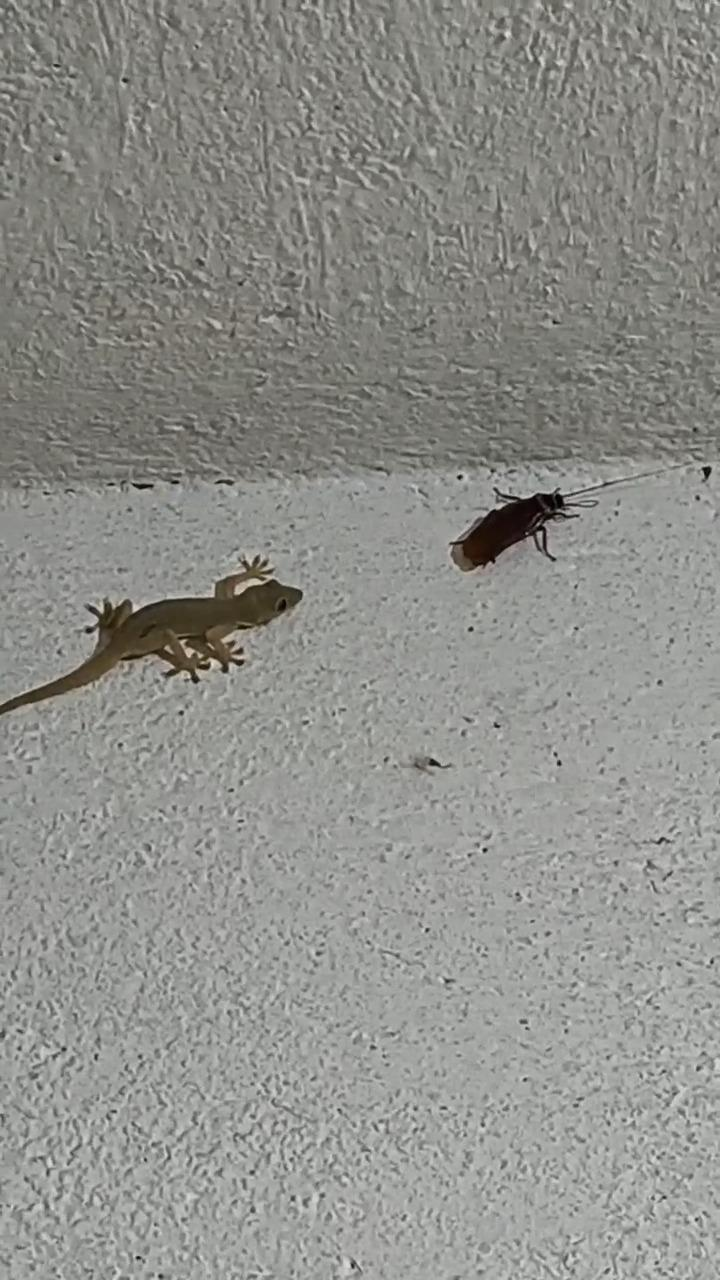cockroach: (432, 476, 643, 576)
lizard: (0, 553, 319, 726)
